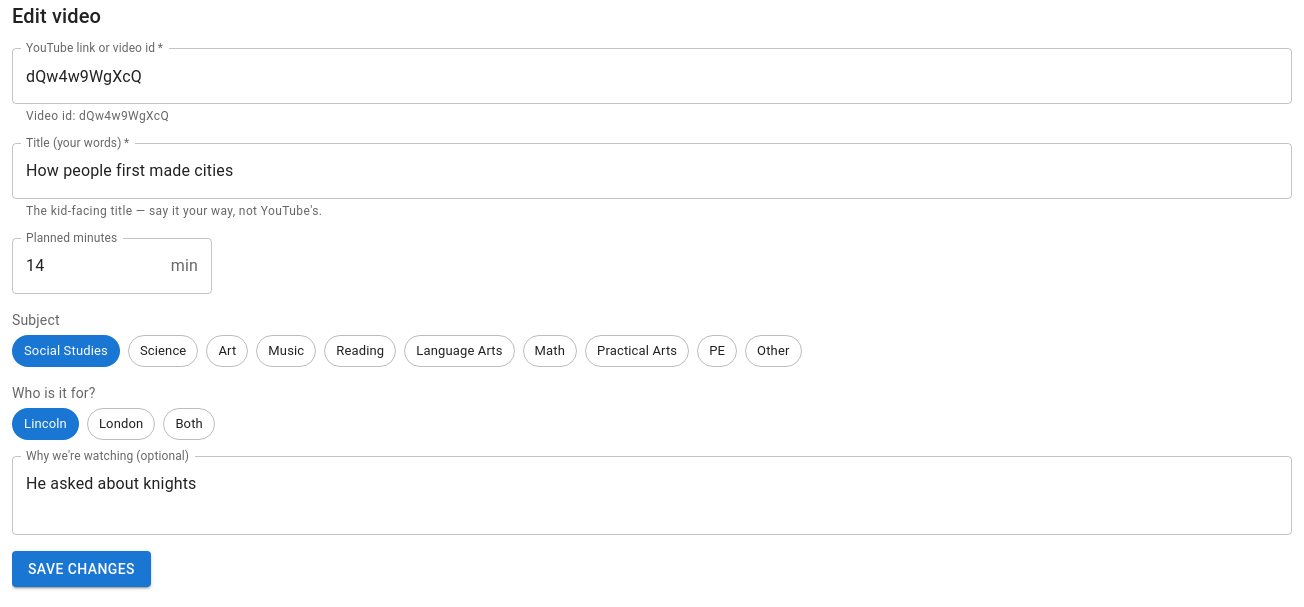
WatchVetInForm — edit mode (FEAT-129) › re-validates the link on edit — a malformed URL cannot be saved either
Replace the text in the field labelled "YouTube link or video id *" with "https://evil.com/watch?v=dQw4w9WgXcQ". click: (652, 76)
box: 12,48 -> 1292,104
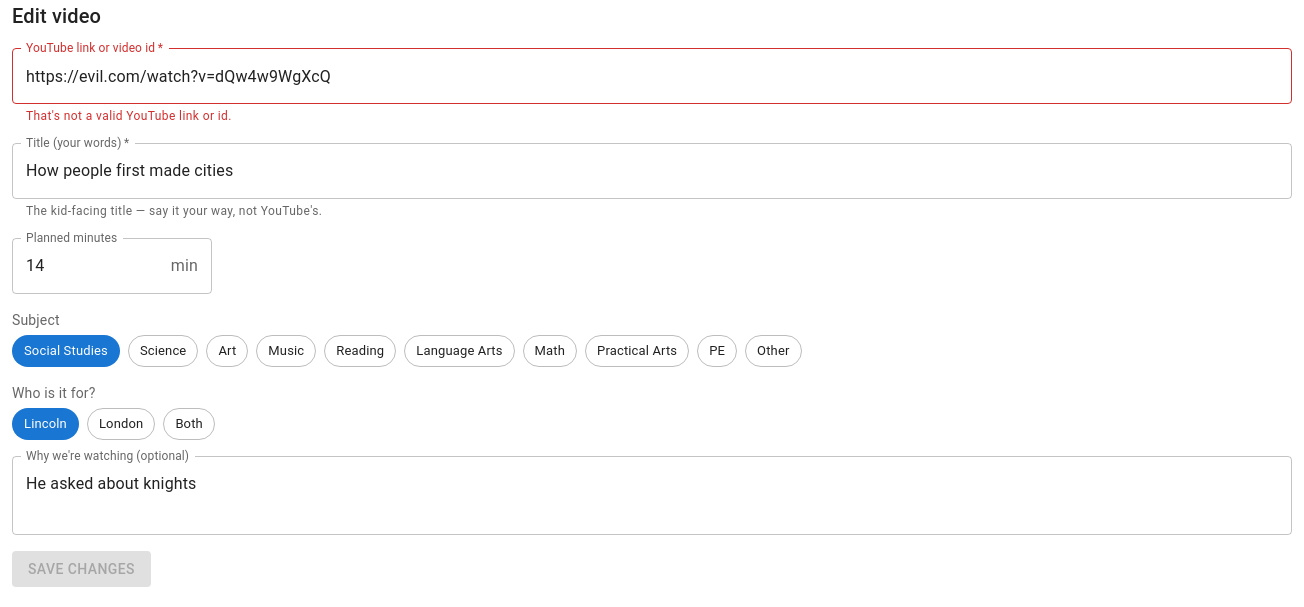
Expected: the text "That's not a valid YouTube link or id." is shown, 26,109 -> 232,123
Expected: the button "Save changes" is disabled, 12,551 -> 151,587
